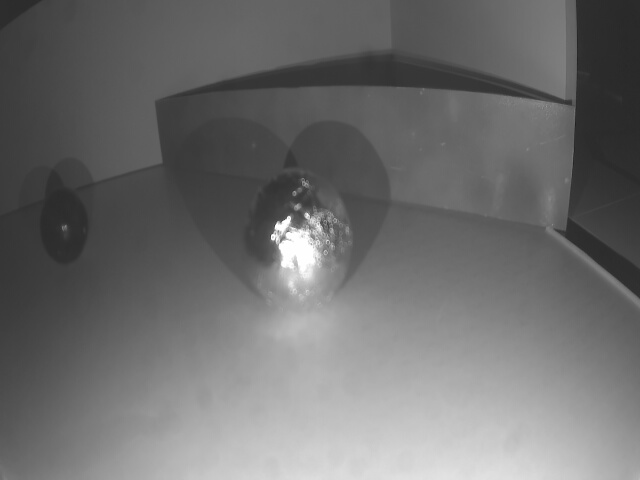Dead: (41, 194, 88, 264)
Green: (156, 88, 573, 231)
Live: (240, 172, 352, 306)
